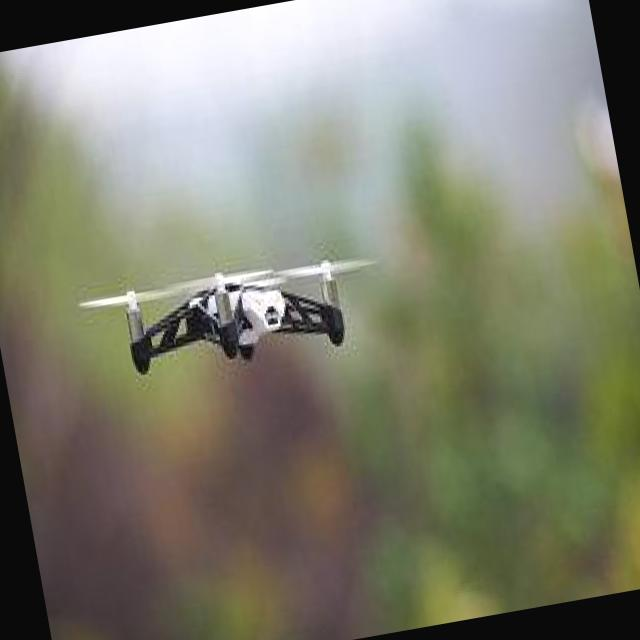drone: (76, 243, 391, 389)
